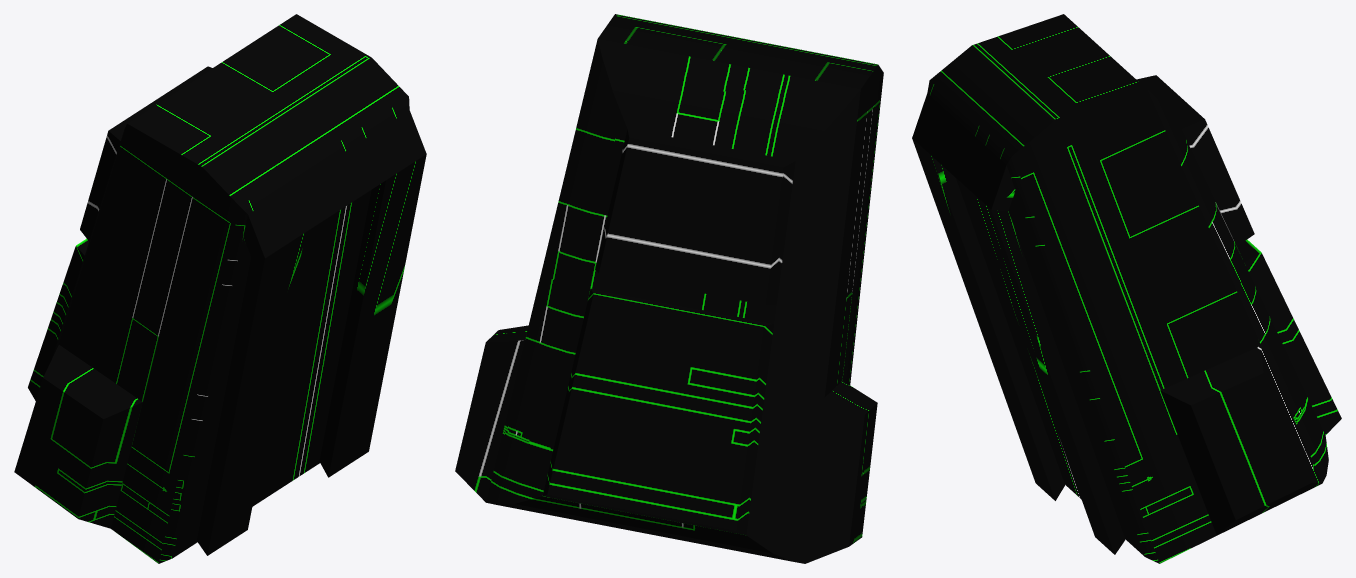
File: tas luar.FBX
3 views of the same model, side by side, from view 1: azimuth 30°, elevation 25°; view 2: azimuth 150°, elevation 25°; view 3: azimuth 270°, elevation 25° (orthographic). The views are drawn at different scales.
Parts seen in each view (by area): view 1: tas luar; view 2: tas luar; view 3: tas luar.
Part boxes in pixels (box(x1,y1,x2,y2)): tas luar: box(14, 14, 426, 563); tas luar: box(455, 14, 883, 563); tas luar: box(912, 14, 1341, 563).
Size of the model in its own units: 9.02 by 11.93 by 9.85.
